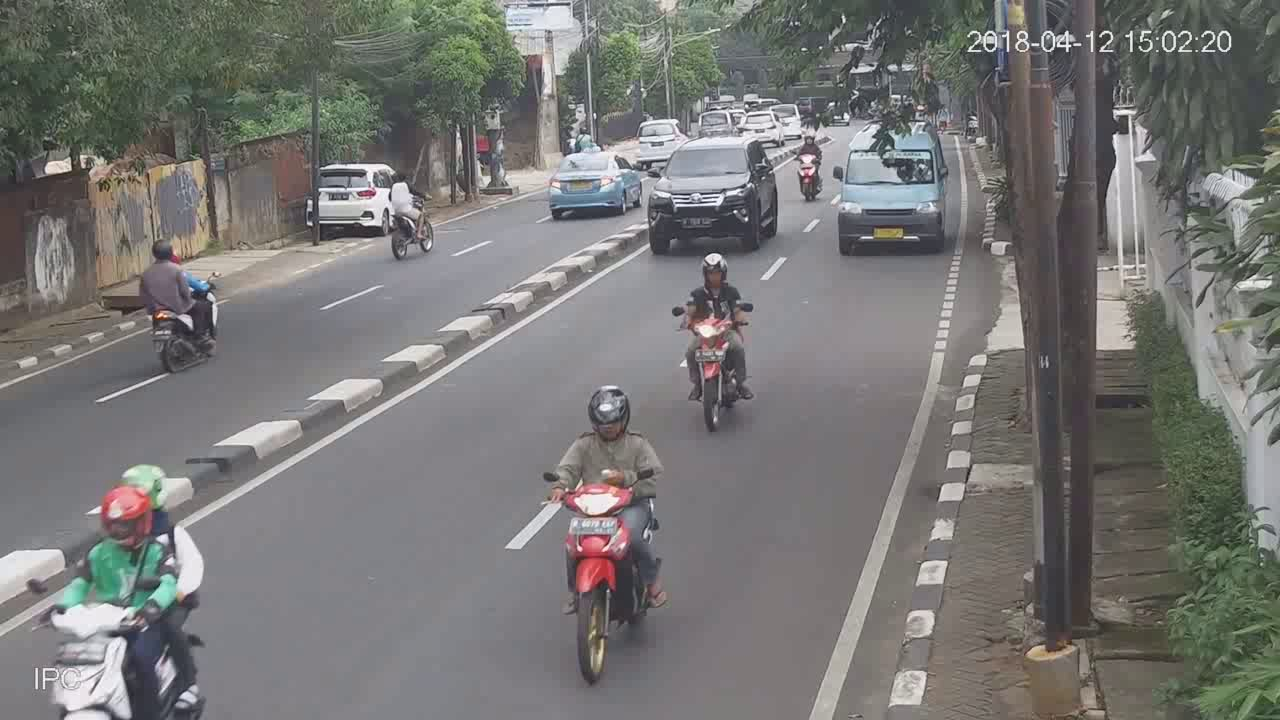car: (649, 143, 779, 250), (839, 127, 949, 250), (549, 147, 643, 218), (309, 161, 389, 233)
motorcycle: (27, 463, 212, 719), (544, 372, 669, 686), (672, 248, 758, 431), (137, 235, 226, 372), (386, 169, 436, 263), (797, 133, 825, 199)
